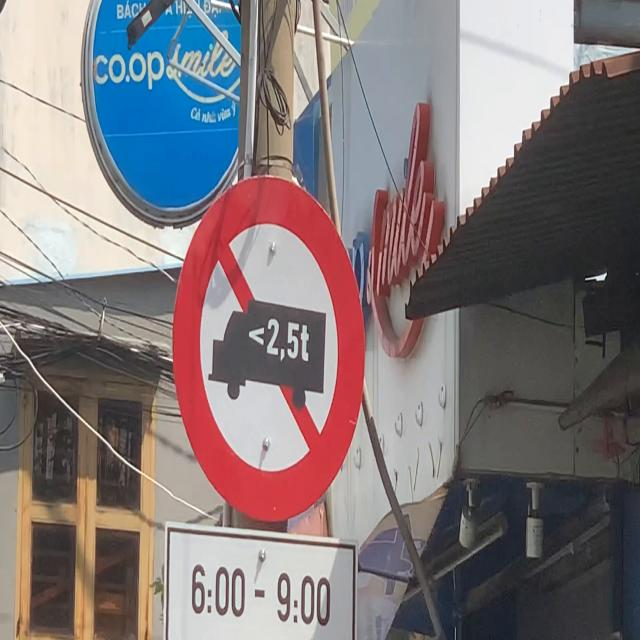Cam con lai: (171, 175, 367, 528)
